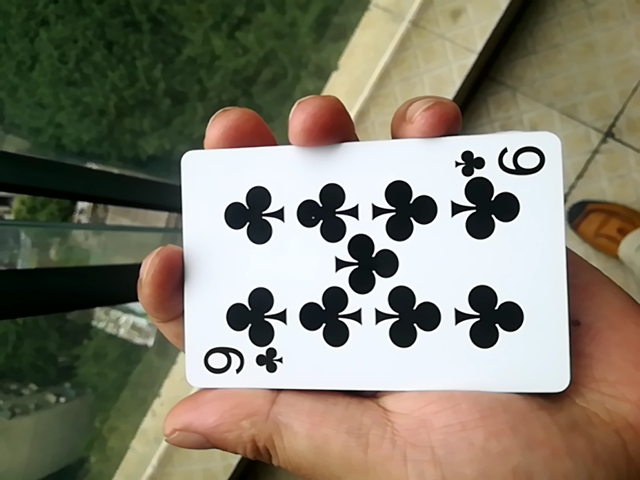mh 9: (169, 135, 568, 398)
